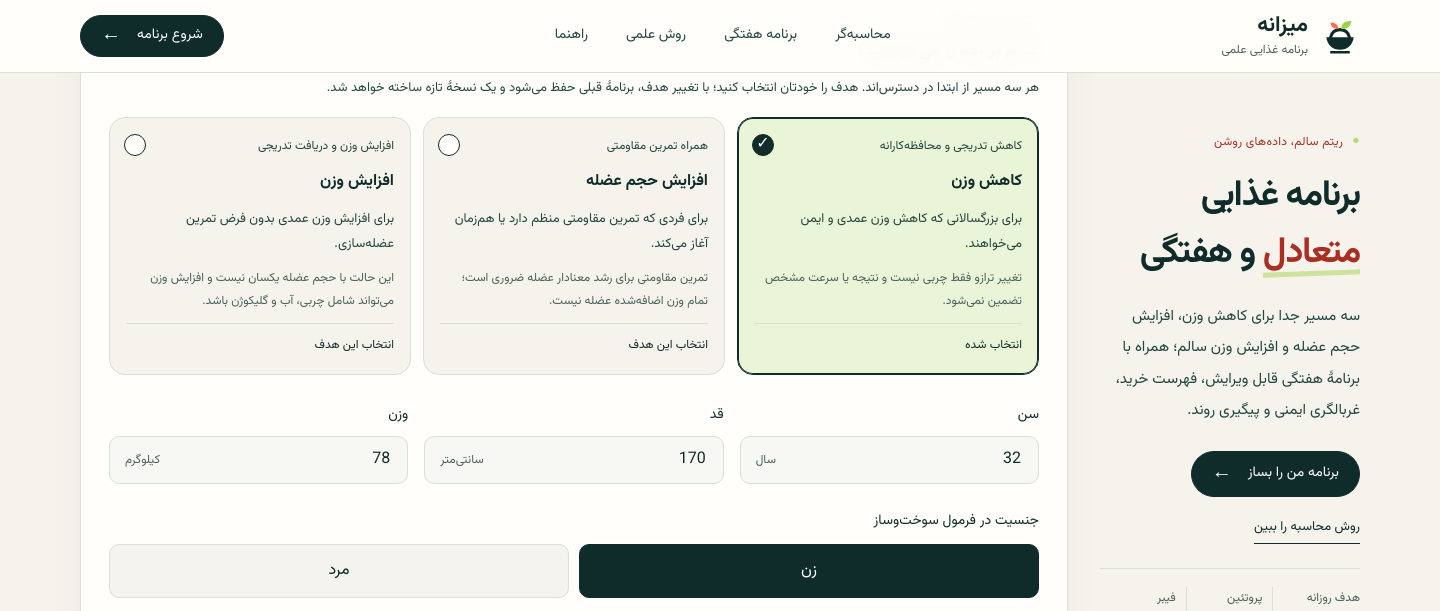
Test: step navigation & validation › advances to step 2 once the field is corrected
(page scrolled)
Replace the text in the number field named "سن به سال" with "10" at (900, 460), box [776,437,1023,483]
(page scrolled)
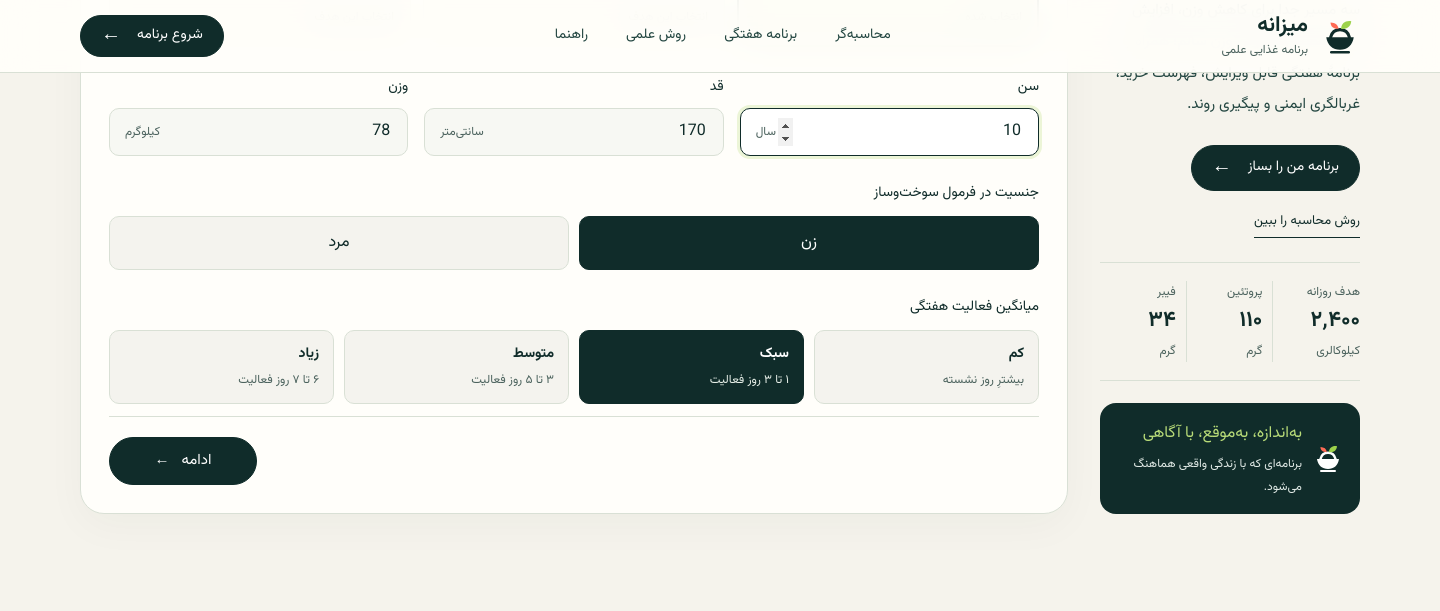
Click the button "ادامه ←" at (183, 461), box [109,437,257,485]
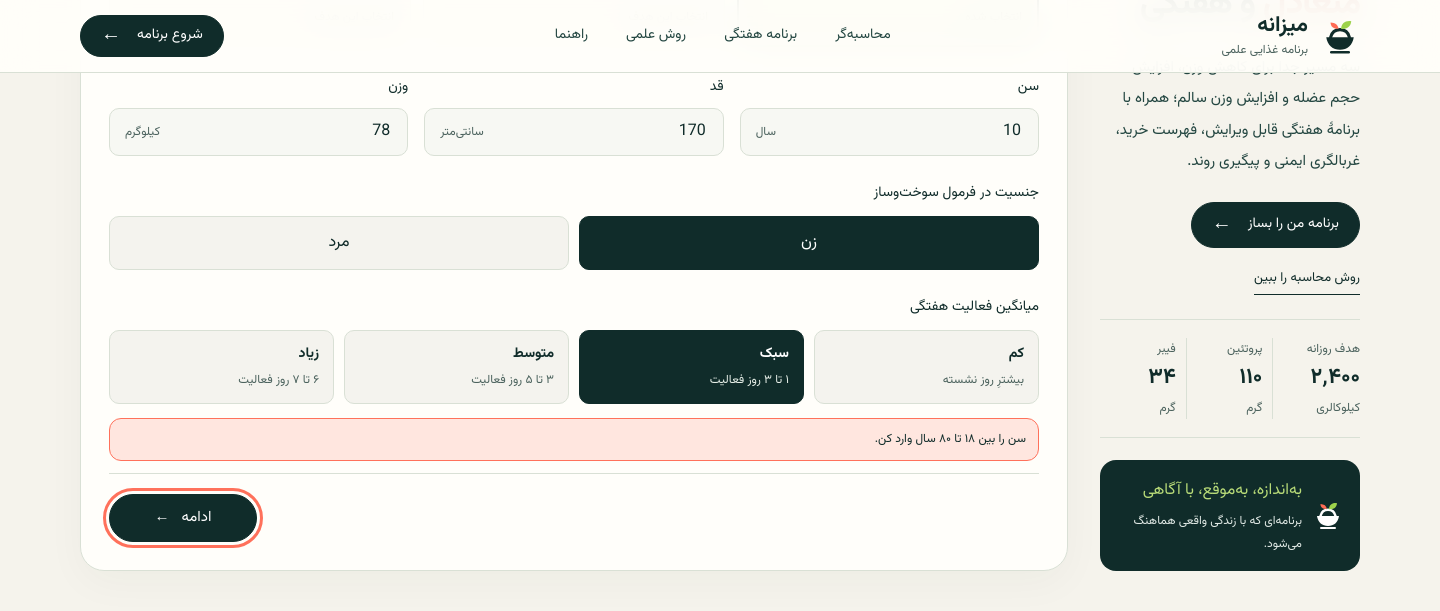
Now the message shows "سن را بین", box [875,430,1026,448]
Clear the number field named "سن به سال" at (900, 132), box [776,109,1023,155]
(page scrolled)
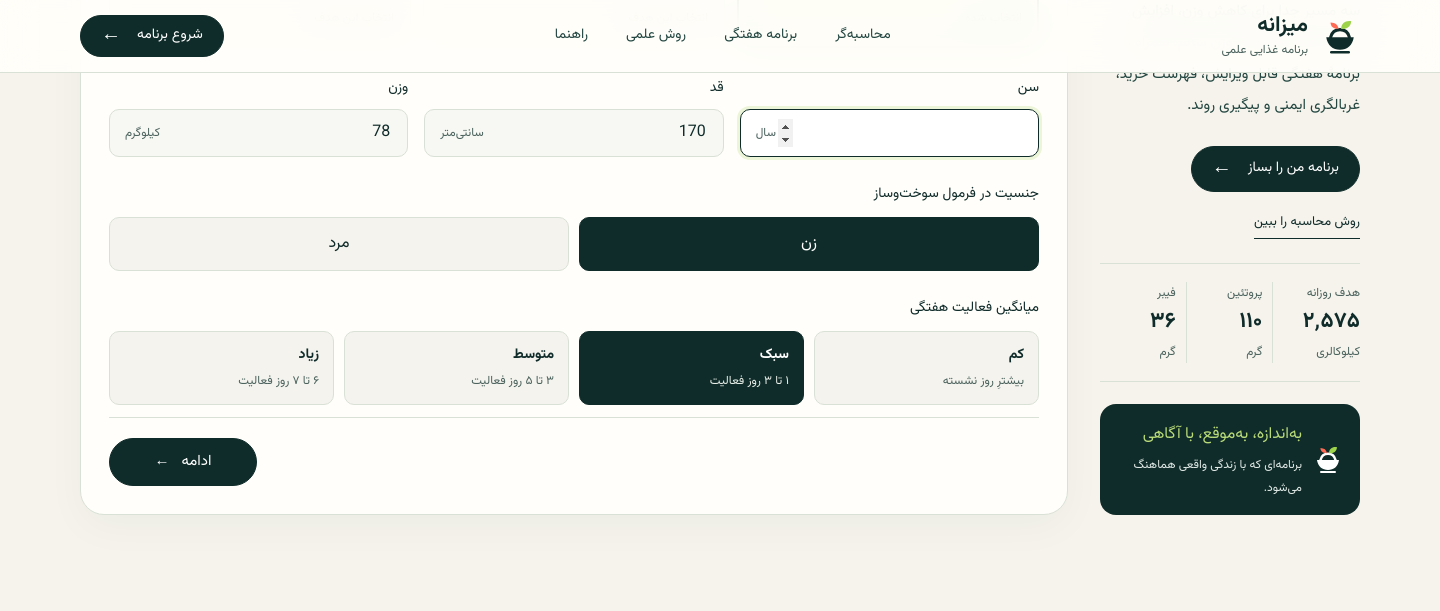
Type "30" into the number field named "سن به سال" at (900, 133), box [776,110,1023,156]
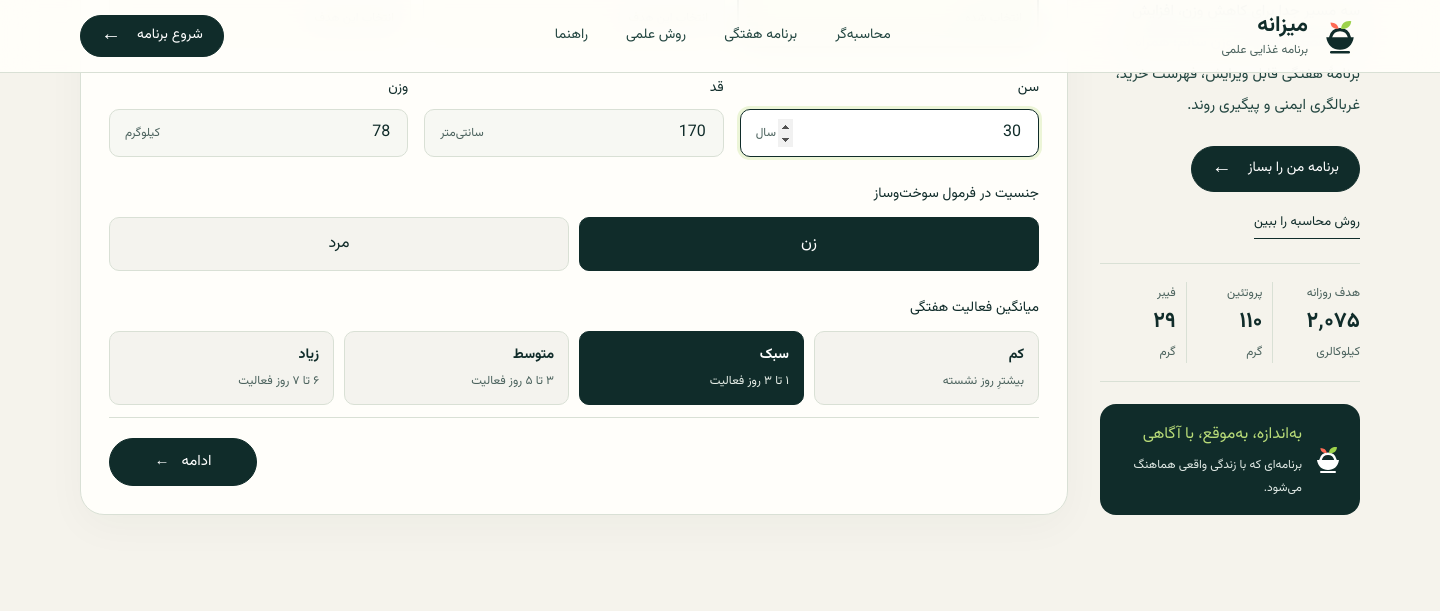
Click the button "ادامه ←" at (183, 462), box [109,438,257,486]
(page scrolled)
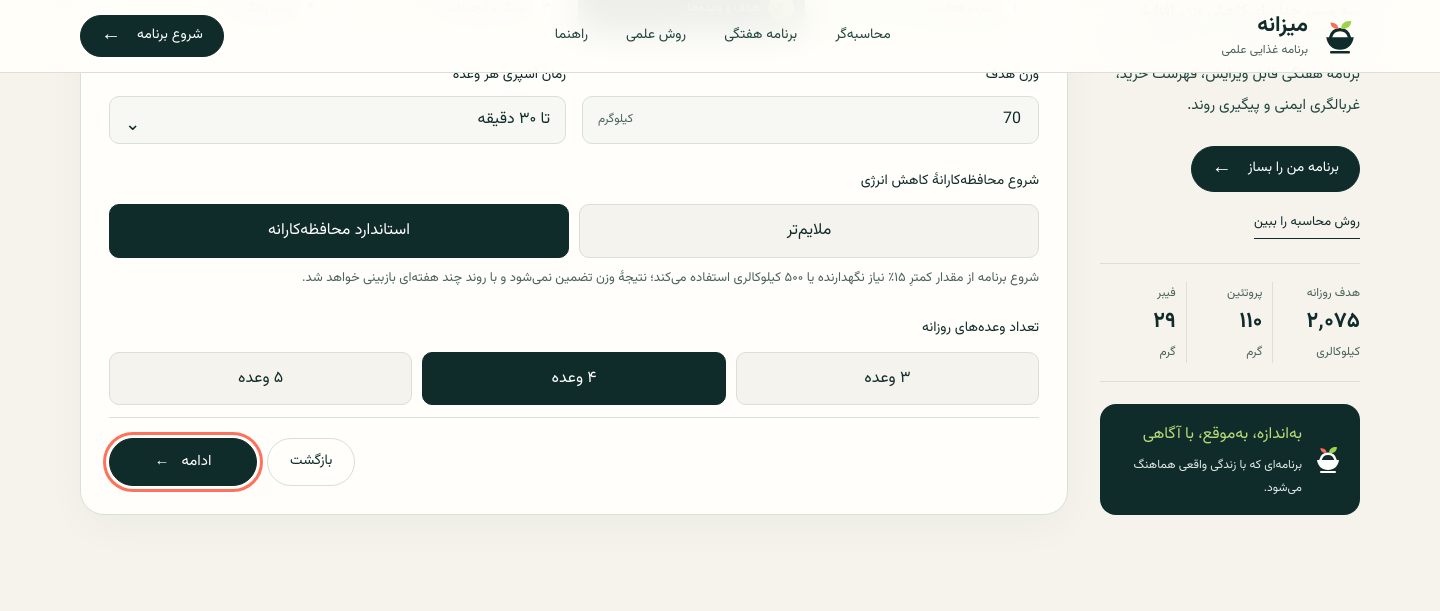
Now the number field named "وزن هدف به کیلوگرم" is shown, box [633,97,1023,143]
